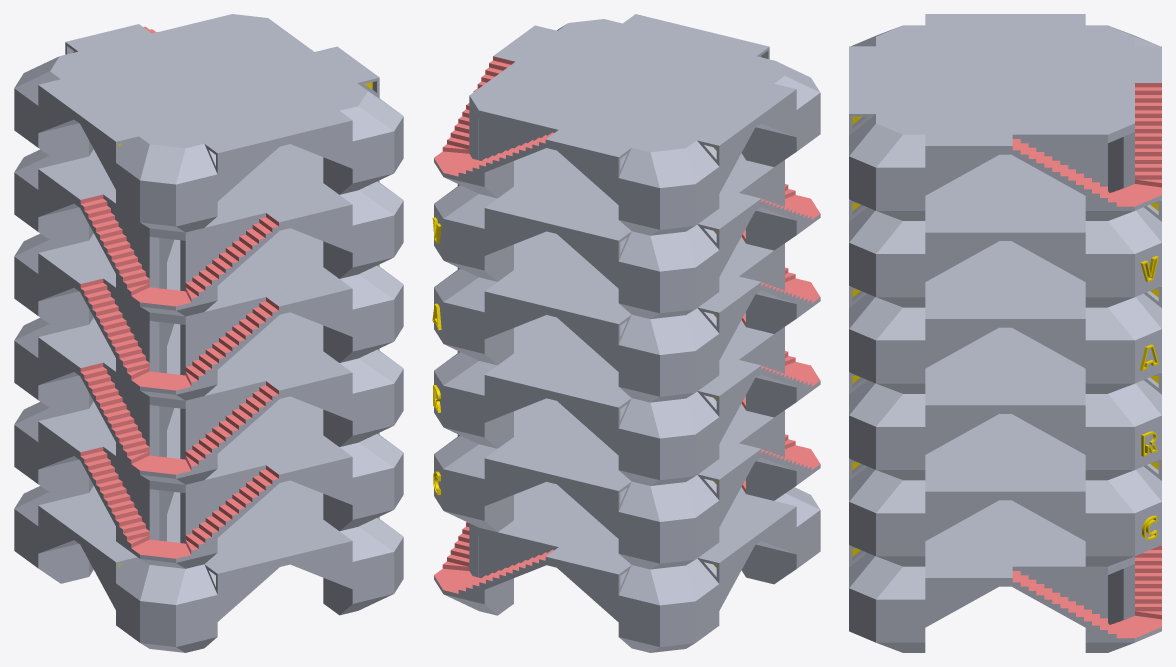
The model's file is cell_01.glb.
3 views of the same model, side by side, from view 1: azimuth 30°, elevation 25°; view 2: azimuth 150°, elevation 25°; view 3: azimuth 270°, elevation 25° (orthographic). The views are drawn at different scales.
Visible parts, largest first — view 1: mass; view 2: mass; view 3: mass.
Boxes of the visible parts, x1,y1,x2,y2 form: mass: [14, 14, 403, 652]; mass: [432, 14, 820, 652]; mass: [849, 14, 1161, 652].
Size of what is drawn, in the model's own units: 10 by 18.29 by 10.
